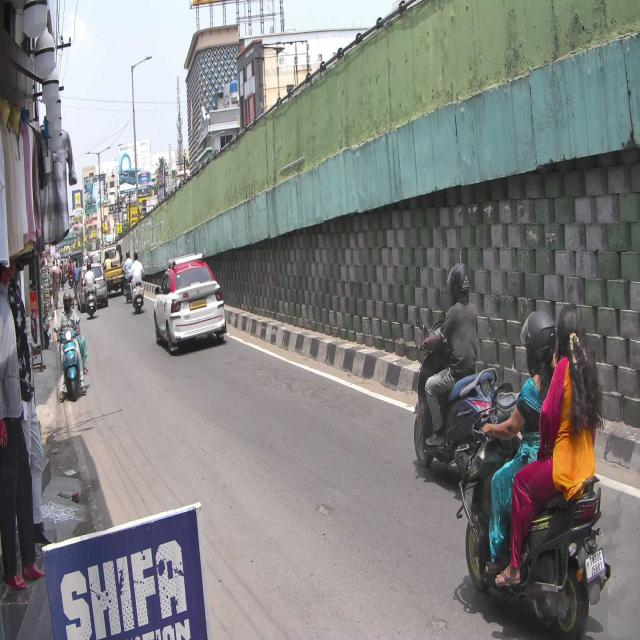double_rider: (485, 298, 612, 640)
single_rider: (411, 257, 479, 471)
